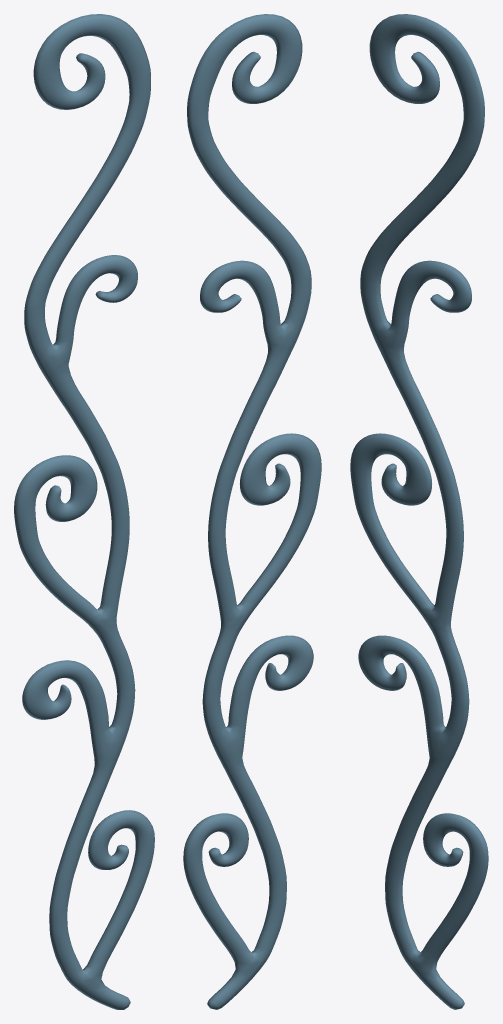
Rendered from SwirlingPattern2.fbx.
The picture shows the model from 3 angles, left to right: view 1: azimuth 30°, elevation 25°; view 2: azimuth 210°, elevation 25°; view 3: azimuth 330°, elevation 25°; orthographic projection.
Visible parts, largest first — view 1: Plane.009; view 2: Plane.009; view 3: Plane.009.
Boxes of the visible parts, x1,y1,x2,y2 form: Plane.009: (14, 14, 154, 1009); Plane.009: (183, 14, 321, 1009); Plane.009: (350, 14, 488, 1009).
Size of the model in its own units: 3.68 by 25 by 0.3269.
